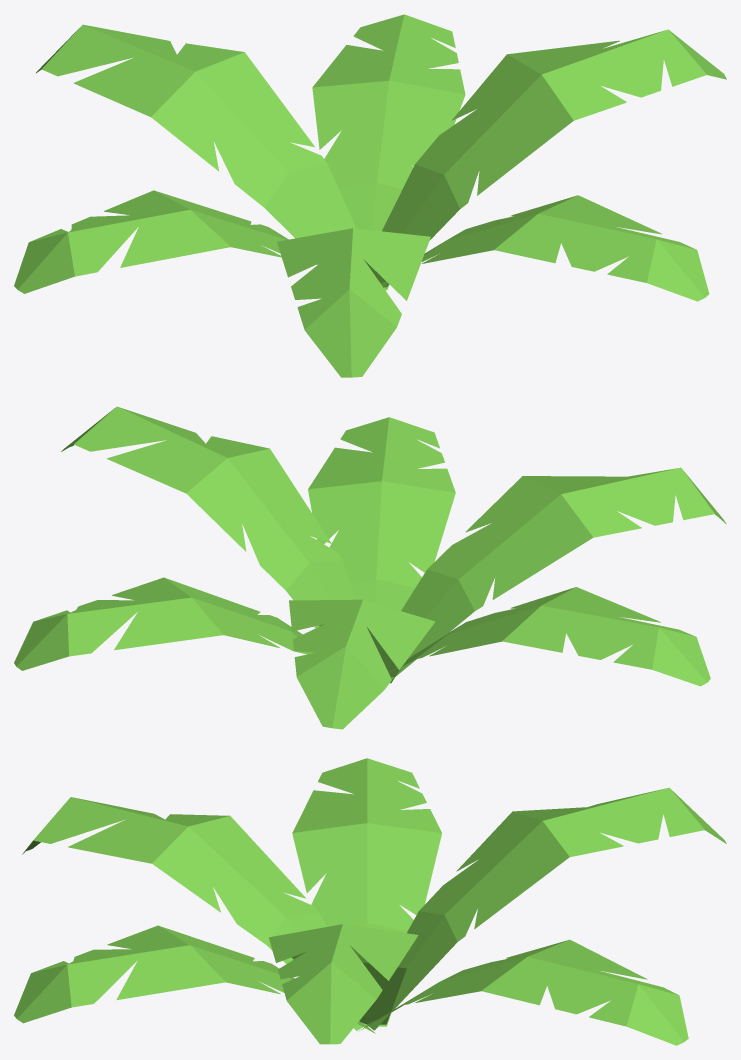
Rendered from Veg1.fbx.
The picture shows the model from 3 angles, top to bottom: view 1: azimuth 30°, elevation 25°; view 2: azimuth 150°, elevation 25°; view 3: azimuth 270°, elevation 25°; orthographic projection. The views are drawn at different scales.
Parts seen in each view (by area): view 1: Plane.001; view 2: Plane.001; view 3: Plane.001.
Part boxes in pixels (box(x1,y1,x2,y2)): Plane.001: box(14, 14, 726, 377); Plane.001: box(14, 406, 726, 729); Plane.001: box(14, 758, 726, 1045).
Bounding box in the file's own units: 103 × 29.19 × 94.78.
